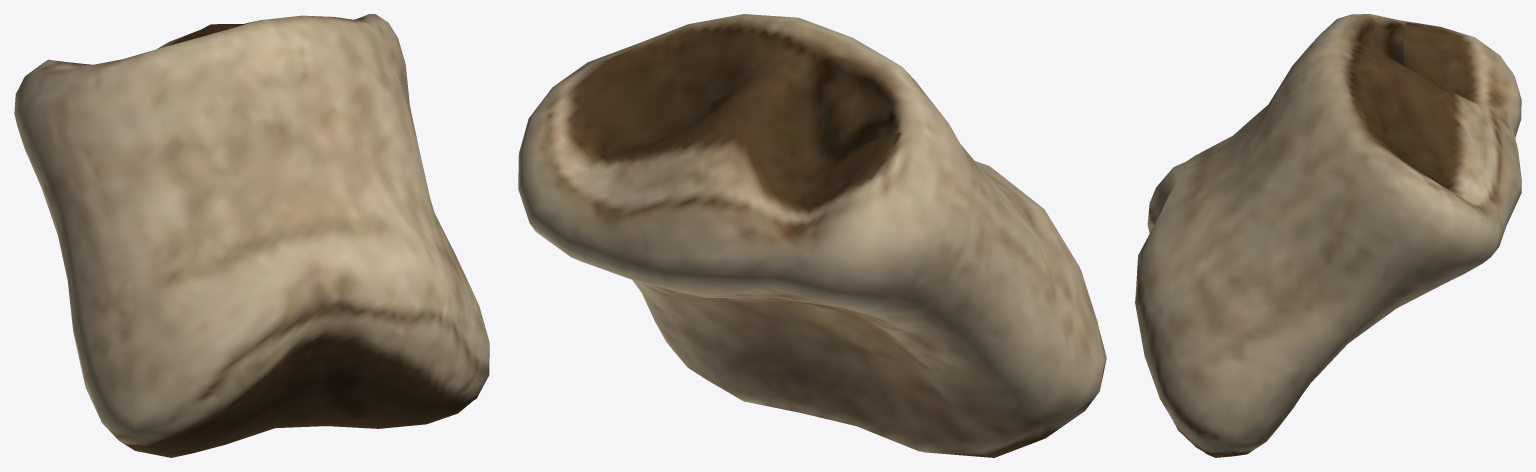
The model's file is Short_Pastern.glb.
3 renders of one model, left to right at view 1: azimuth 30°, elevation 25°; view 2: azimuth 150°, elevation 25°; view 3: azimuth 270°, elevation 25°, orthographic. The views are drawn at different scales.
Parts seen in each view (by area): view 1: R_Frt_Short_Pastern; view 2: R_Frt_Short_Pastern; view 3: R_Frt_Short_Pastern.
Part boxes in pixels (x1,y1,x2,y2): R_Frt_Short_Pastern: (14,14,489,457); R_Frt_Short_Pastern: (518,14,1106,457); R_Frt_Short_Pastern: (1135,14,1521,457).
Size of the model in its own units: 0.0628 by 0.0593 by 0.0577.
Materials: 1 (1 with a texture image).
